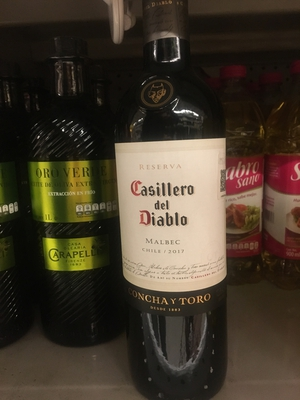casillero del diablo malbec: (100, 16, 241, 378)
